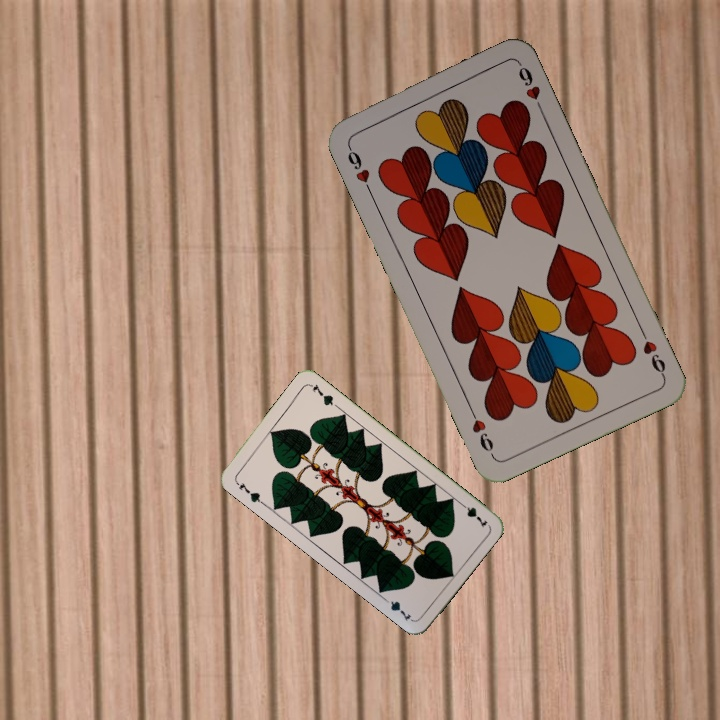G7: (455, 498, 490, 530), (232, 477, 266, 507)
H9: (636, 324, 669, 380), (343, 140, 374, 196)
